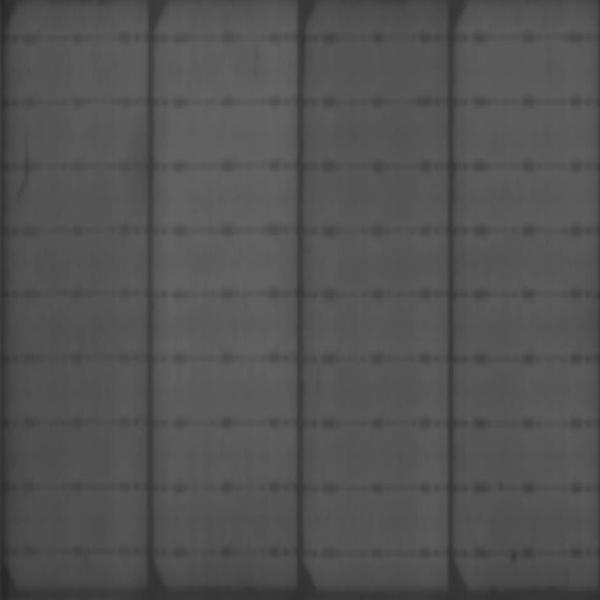scratch: (16, 135, 33, 201)
